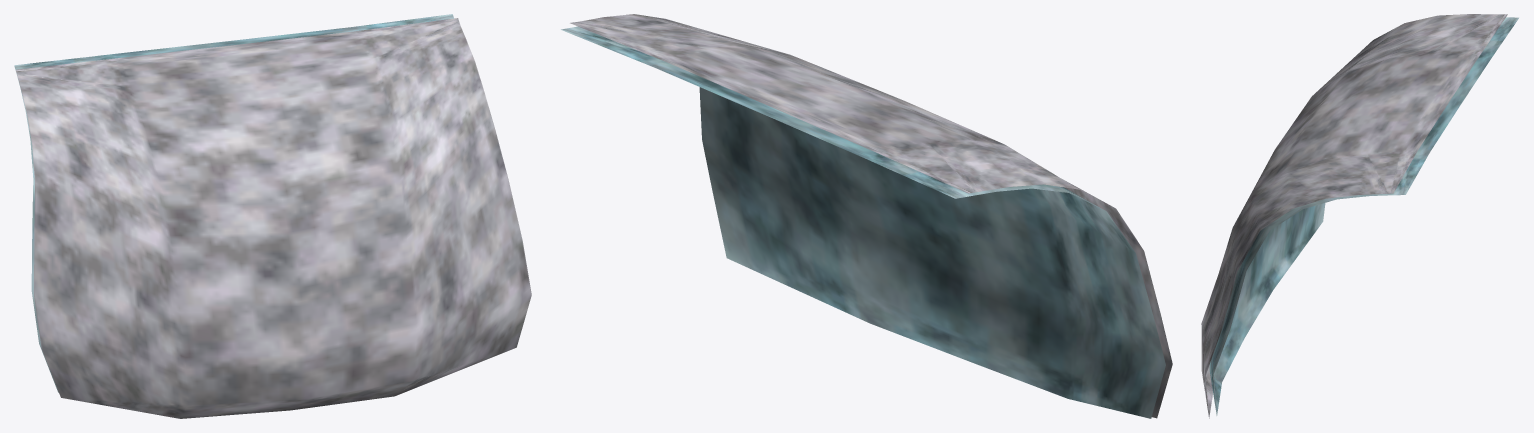
Rendered from CB_NEWPLAYSURFACE_CB_WATERFALLS05.obj.
The picture shows the model from 3 angles, left to right: view 1: azimuth 30°, elevation 25°; view 2: azimuth 150°, elevation 25°; view 3: azimuth 270°, elevation 25°; orthographic projection. The views are drawn at different scales.
Visible parts, largest first — view 1: CB_waterfalls05; view 2: CB_waterfalls05; view 3: CB_waterfalls05.
Part boxes in pixels (bbox=[...]): CB_waterfalls05: bbox=[14, 14, 531, 418]; CB_waterfalls05: bbox=[561, 14, 1172, 418]; CB_waterfalls05: bbox=[1201, 14, 1518, 418].
Size of the model in its own units: 954 by 547 by 599.
